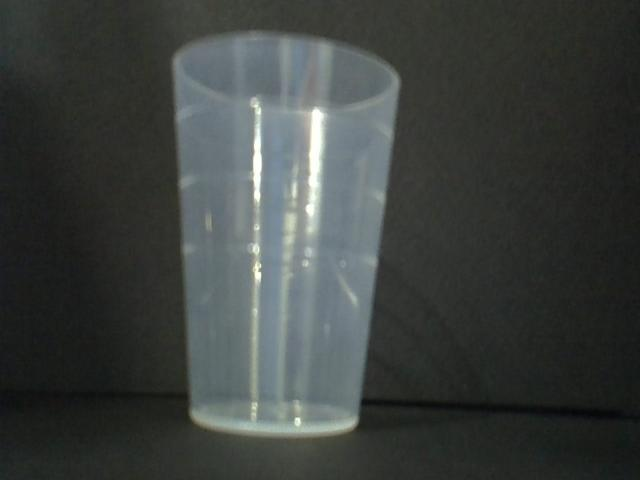cup: (164, 28, 402, 439)
